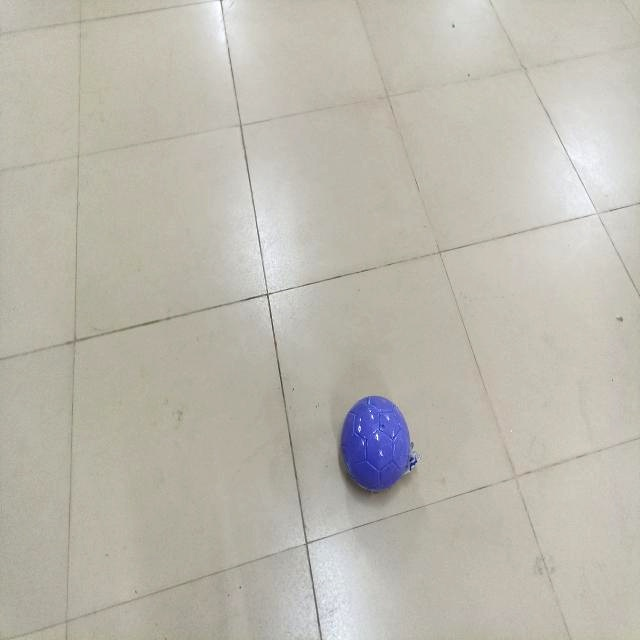purple_ball: (338, 389, 415, 500)
